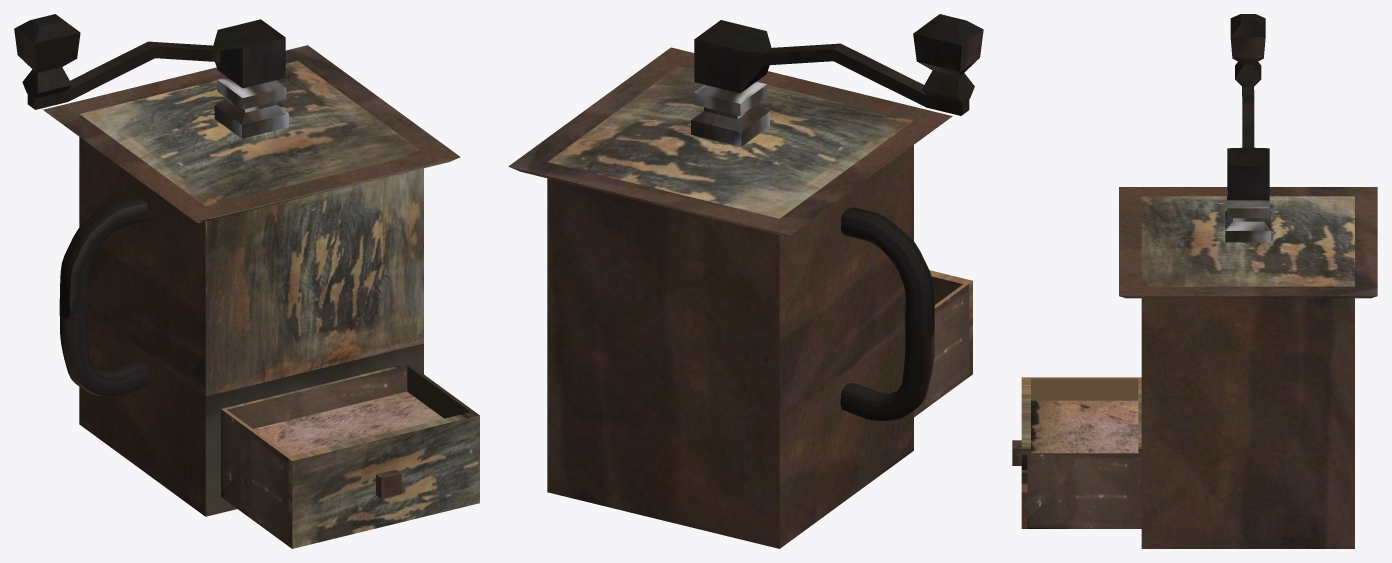
File: CoffeeGrinder (1).fbx
3 renders of one model, left to right at view 1: azimuth 30°, elevation 25°; view 2: azimuth 150°, elevation 25°; view 3: azimuth 270°, elevation 25°, orthographic. The views are drawn at different scales.
Visible parts, largest first — view 1: Cube; view 2: Cube; view 3: Cube.
Boxes of the visible parts, box(x1,y1,x2,y2) form: Cube: box(14, 14, 479, 548); Cube: box(508, 14, 983, 548); Cube: box(1012, 14, 1377, 548).
Bounding box in the file's own units: 3.3 × 3.43 × 4.14.
1 material, 1 textured.
